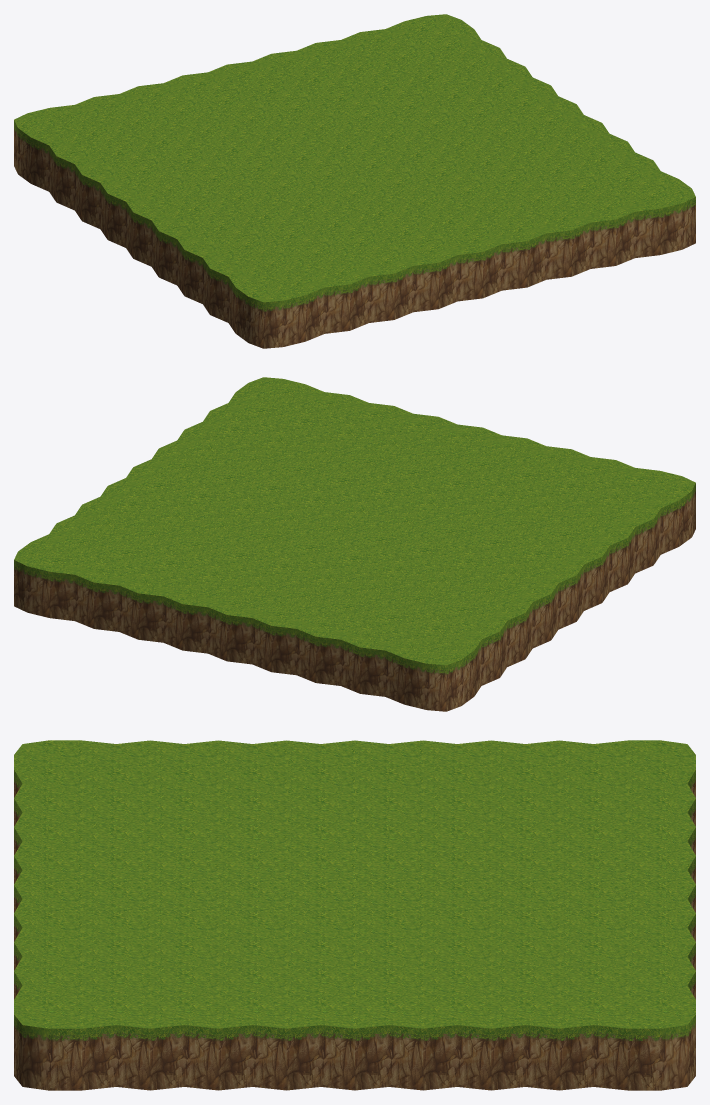
File: StageOssanTataki.fbx
3 renders of one model, top to bottom at view 1: azimuth 30°, elevation 25°; view 2: azimuth 150°, elevation 25°; view 3: azimuth 270°, elevation 25°, orthographic. The views are drawn at different scales.
Parts seen in each view (by area): view 1: Terrain; view 2: Terrain; view 3: Terrain.
Boxes of the visible parts, x1,y1,x2,y2 form: Terrain: (14, 14, 695, 348); Terrain: (14, 377, 695, 711); Terrain: (14, 740, 695, 1090).
Size of the model in its own units: 251 by 25.05 by 251.
1 material, 1 textured.
